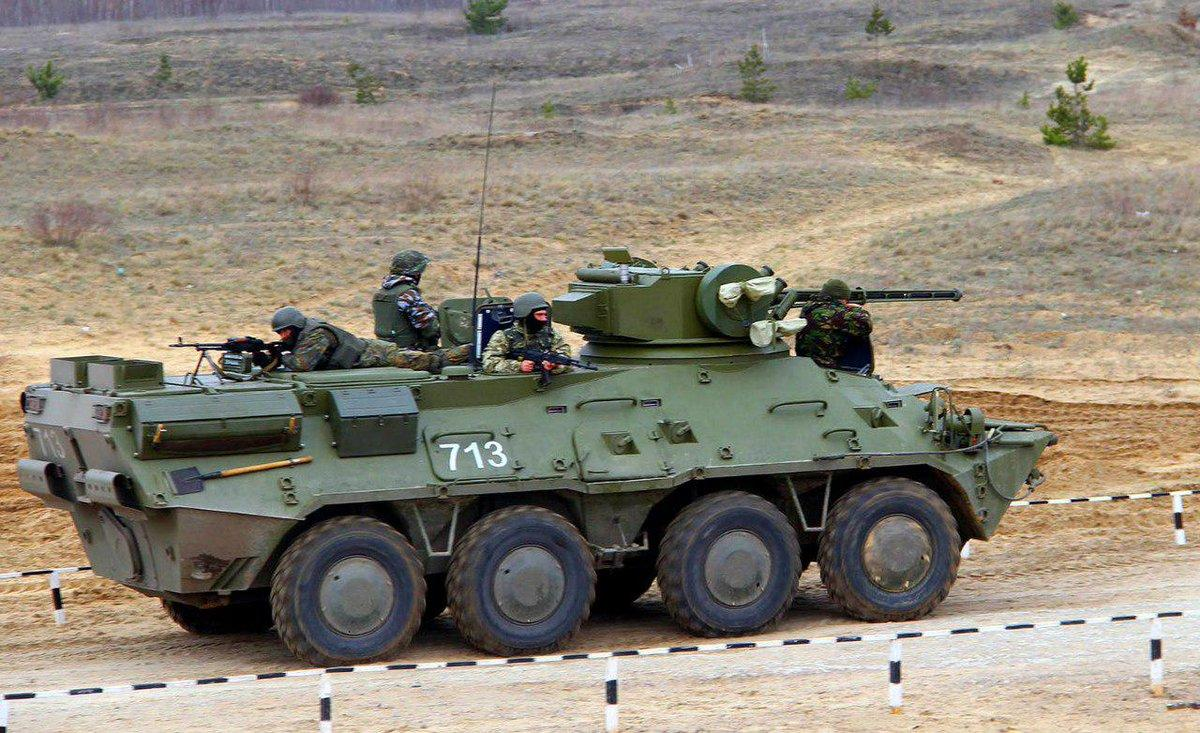armored_car: (18, 230, 1060, 677)
